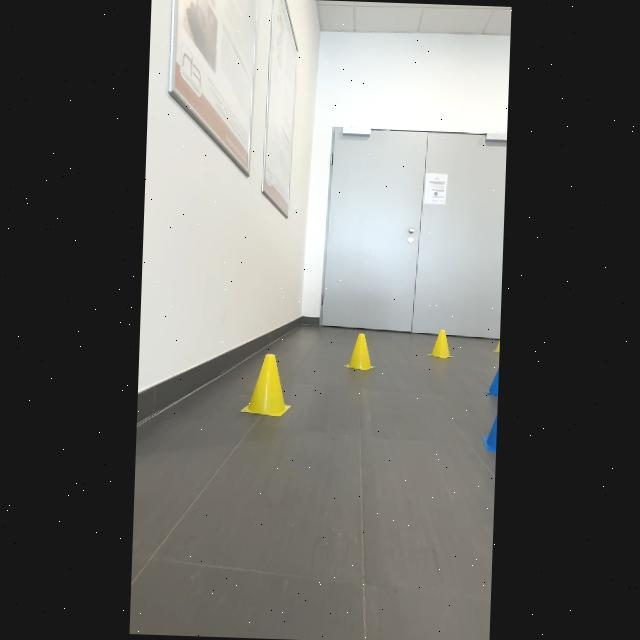yellow_cone: (237, 349, 298, 426), (344, 328, 374, 371), (426, 324, 458, 362)
